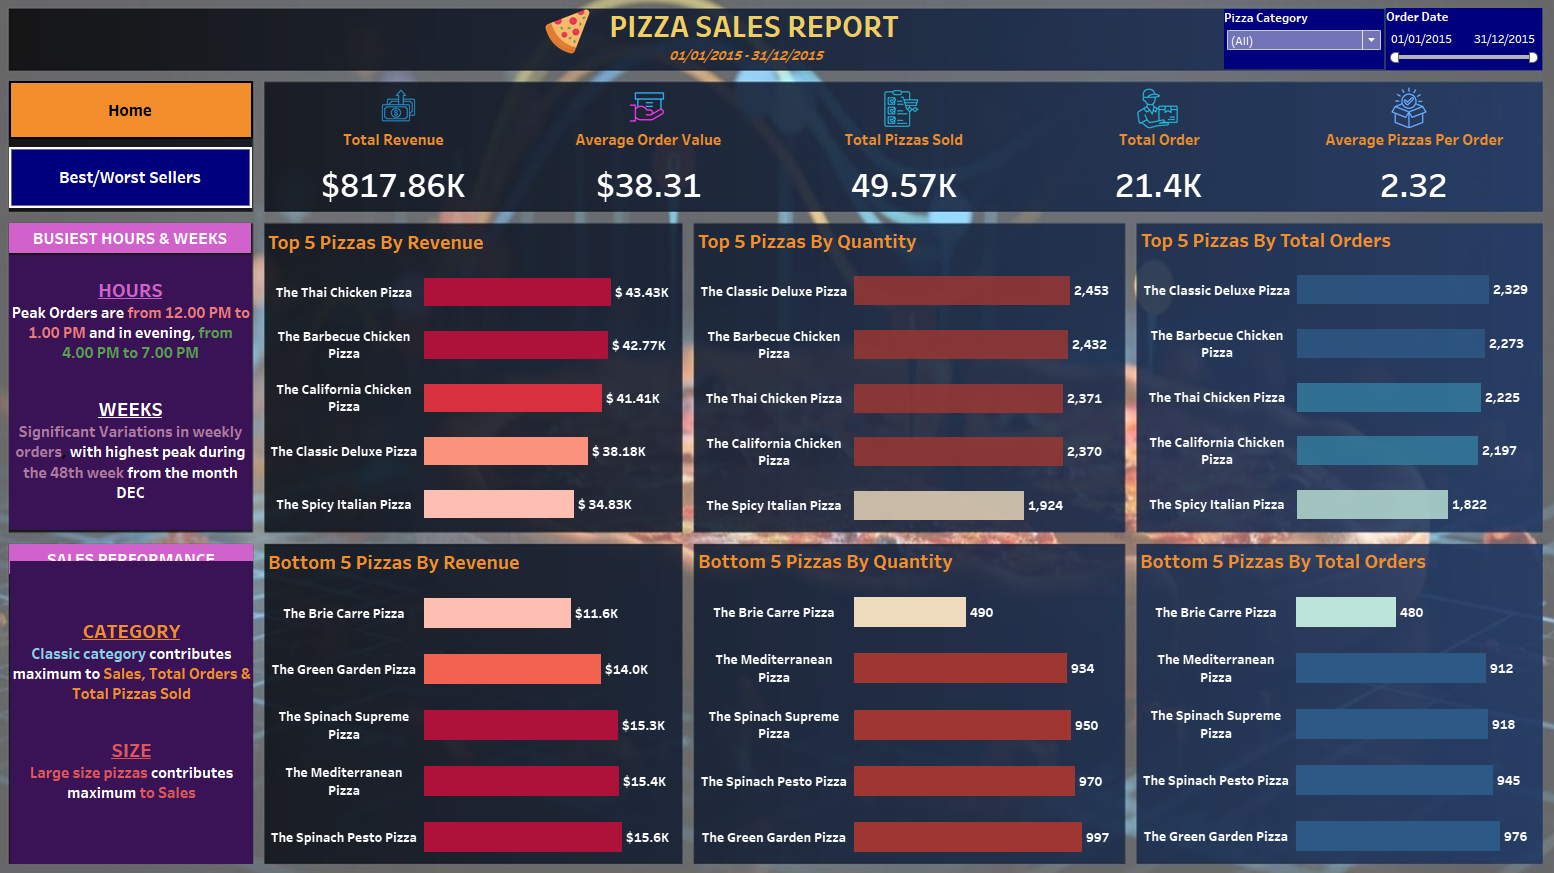

Layout of this report page (visuals, bound fields, positions):
{"tool":"tableau","page":{"name":"Best/Worst Sellers","canvas":[1600,900],"ordinal":0},"visuals":[{"type":"image","param":"D:/Tableau _ SQL Project/Pizza Tableau 2.jpg","box":[8,8,1584,884]},{"type":"text","box":[517,8,520,60]},{"type":"image","param":"D:/Tableau _ SQL Project/Pizza Sales Images/pizza-slice.png","box":[567,21,68,46]},{"type":"filter","title":"KPI","param":"[federated.0orc0ql1sjlkgq17ms7ec14iokdn].[none:order_date:qk]","box":[1409,21,156,62]},{"type":"filter","title":"KPI","param":"[federated.0orc0ql1sjlkgq17ms7ec14iokdn].[none:pizza_category:nk]","box":[1247,22,160,60]},{"type":"worksheet","title":"Sheet 7","mark":"Automatic","box":[610,52,320,32]},{"type":"dashboard-object","box":[32,94,244,58]},{"type":"image","param":"D:/Tableau _ SQL Project/Pizza Sales Images/profit-growth.png","box":[402,99,66,38]},{"type":"image","param":"D:/Tableau _ SQL Project/Pizza Sales Images/shipping-box.png","box":[650,100,69,39]},{"type":"image","param":"D:/Tableau _ SQL Project/Pizza Sales Images/delivery-man.png","box":[1159,100,63,42]},{"type":"image","param":"D:/Tableau _ SQL Project/Pizza Sales Images/order (1).png","box":[1411,100,56,41]},{"type":"image","param":"D:/Tableau _ SQL Project/Pizza Sales Images/order-delivery.png","box":[905,102,53,38]},{"type":"worksheet","title":"KPI","mark":"Automatic","box":[289,134,1276,91]},{"type":"dashboard-object","box":[32,160,243,61]},{"type":"worksheet","title":"Top 5 Pizzas By Total Orders","mark":"Bar","rows":["pizza_name"],"box":[1160,235,406,309]},{"type":"text","box":[32,236,242,30]},{"type":"worksheet","title":"Top 5 Pizzas By Quantity","mark":"Bar","rows":["pizza_name"],"box":[717,236,431,309]},{"type":"worksheet","title":"Top 5 Pizzas By Revenue","mark":"Bar","rows":["pizza_name"],"box":[287,237,418,306]},{"type":"text","box":[32,268,243,275]},{"type":"worksheet","title":"Bottom 5 Pizzas By Quantity","mark":"Bar","rows":["pizza_name"],"box":[717,556,431,322]},{"type":"worksheet","title":"Bottom 5 Pizzas By Total Orders","mark":"Bar","rows":["pizza_name"],"box":[1159,556,406,321]},{"type":"text","box":[32,557,244,30]},{"type":"worksheet","title":"Bottom 5 Pizzas By Revenue ","mark":"Bar","rows":["pizza_name"],"box":[287,557,419,321]},{"type":"text","box":[33,574,243,303]}]}

Visuals, with their boxes in screenshot pixels (x1, y1, x2, y2), scaled from the page's 1600x900 canvas onto the 1554x873 screenshot:
image: left=8, top=8, right=1546, bottom=865
text: left=502, top=8, right=1007, bottom=66
image: left=551, top=20, right=617, bottom=65
"KPI" filter: left=1368, top=20, right=1520, bottom=81
"KPI" filter: left=1211, top=21, right=1367, bottom=80
"Sheet 7" worksheet: left=592, top=50, right=903, bottom=81
dashboard-object: left=31, top=91, right=268, bottom=147
image: left=390, top=96, right=455, bottom=133
image: left=631, top=97, right=698, bottom=135
image: left=1126, top=97, right=1187, bottom=138
image: left=1370, top=97, right=1425, bottom=137
image: left=879, top=99, right=930, bottom=136
"KPI" worksheet: left=281, top=130, right=1520, bottom=218
dashboard-object: left=31, top=155, right=267, bottom=214
"Top 5 Pizzas By Total Orders" worksheet (Bar marks): left=1127, top=228, right=1521, bottom=528
text: left=31, top=229, right=266, bottom=258
"Top 5 Pizzas By Quantity" worksheet (Bar marks): left=696, top=229, right=1115, bottom=529
"Top 5 Pizzas By Revenue" worksheet (Bar marks): left=279, top=230, right=685, bottom=527
text: left=31, top=260, right=267, bottom=527
"Bottom 5 Pizzas By Quantity" worksheet (Bar marks): left=696, top=539, right=1115, bottom=852
"Bottom 5 Pizzas By Total Orders" worksheet (Bar marks): left=1126, top=539, right=1520, bottom=851
text: left=31, top=540, right=268, bottom=569
"Bottom 5 Pizzas By Revenue " worksheet (Bar marks): left=279, top=540, right=686, bottom=852
text: left=32, top=557, right=268, bottom=851
